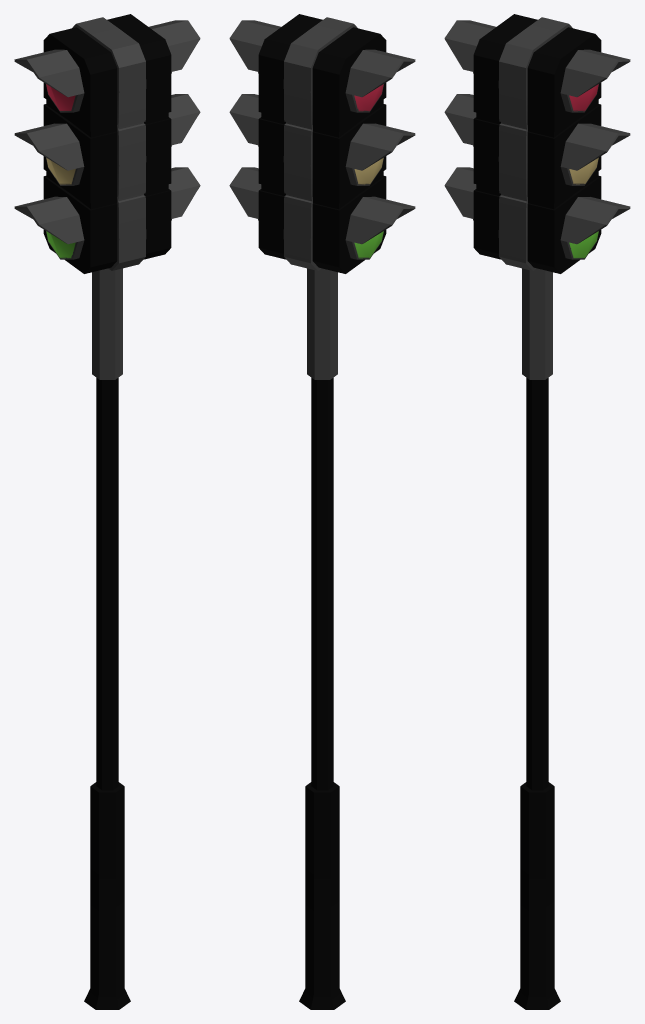
The model's file is P_TRAFFIC LIGHT.fbx.
3 renders of one model, left to right at view 1: azimuth 30°, elevation 25°; view 2: azimuth 150°, elevation 25°; view 3: azimuth 330°, elevation 25°, orthographic.
Visible parts, largest first — view 1: Traffic_Light; view 2: Traffic_Light; view 3: Traffic_Light.
Part boxes in pixels (left/top/right/bottom): Traffic_Light: left=14, top=14, right=200, bottom=1009; Traffic_Light: left=229, top=14, right=415, bottom=1009; Traffic_Light: left=444, top=14, right=630, bottom=1009.
Bounding box in the file's own units: 164 × 932 × 87.9.
